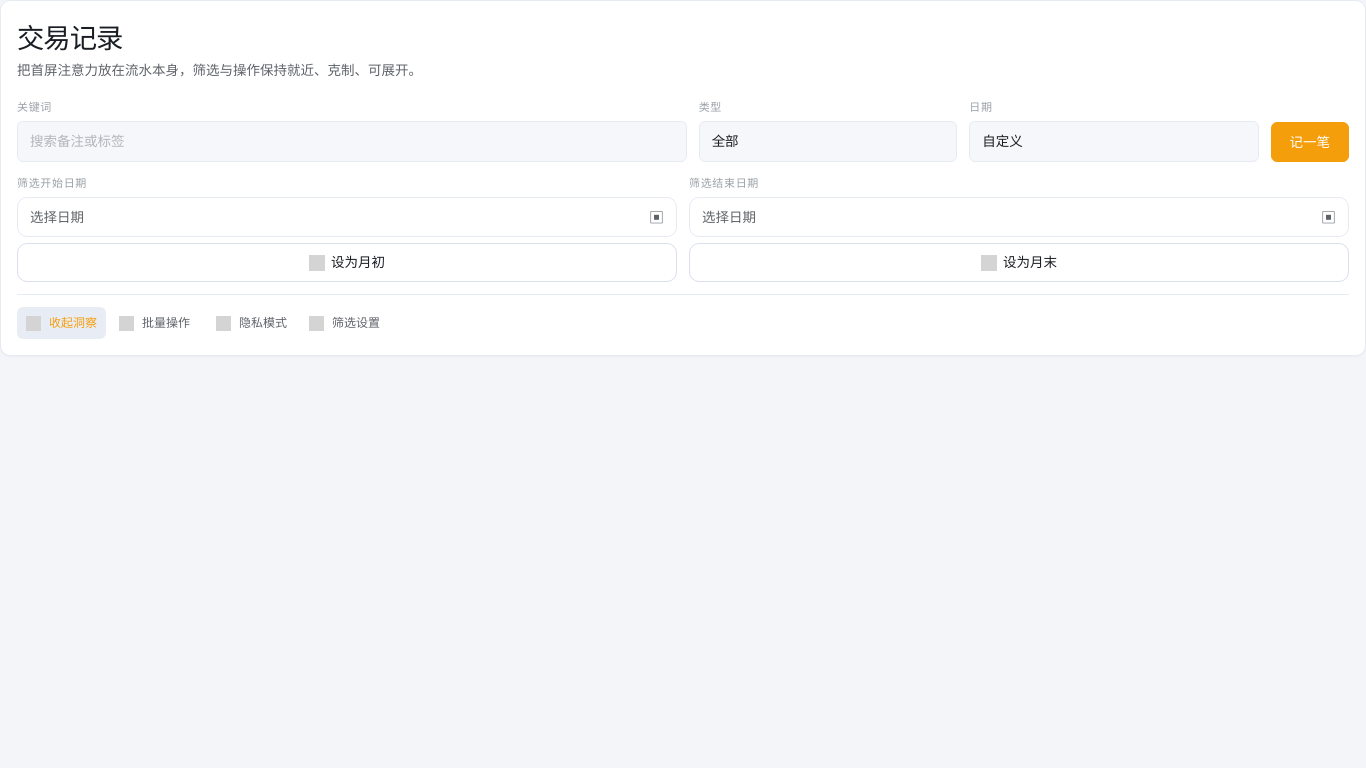
Test case: TransactionFilters › 打开高级筛选对话框后展示分区设置与导入整理操作
Click the button "筛选设置" at (344, 323), box [300,307,389,339]
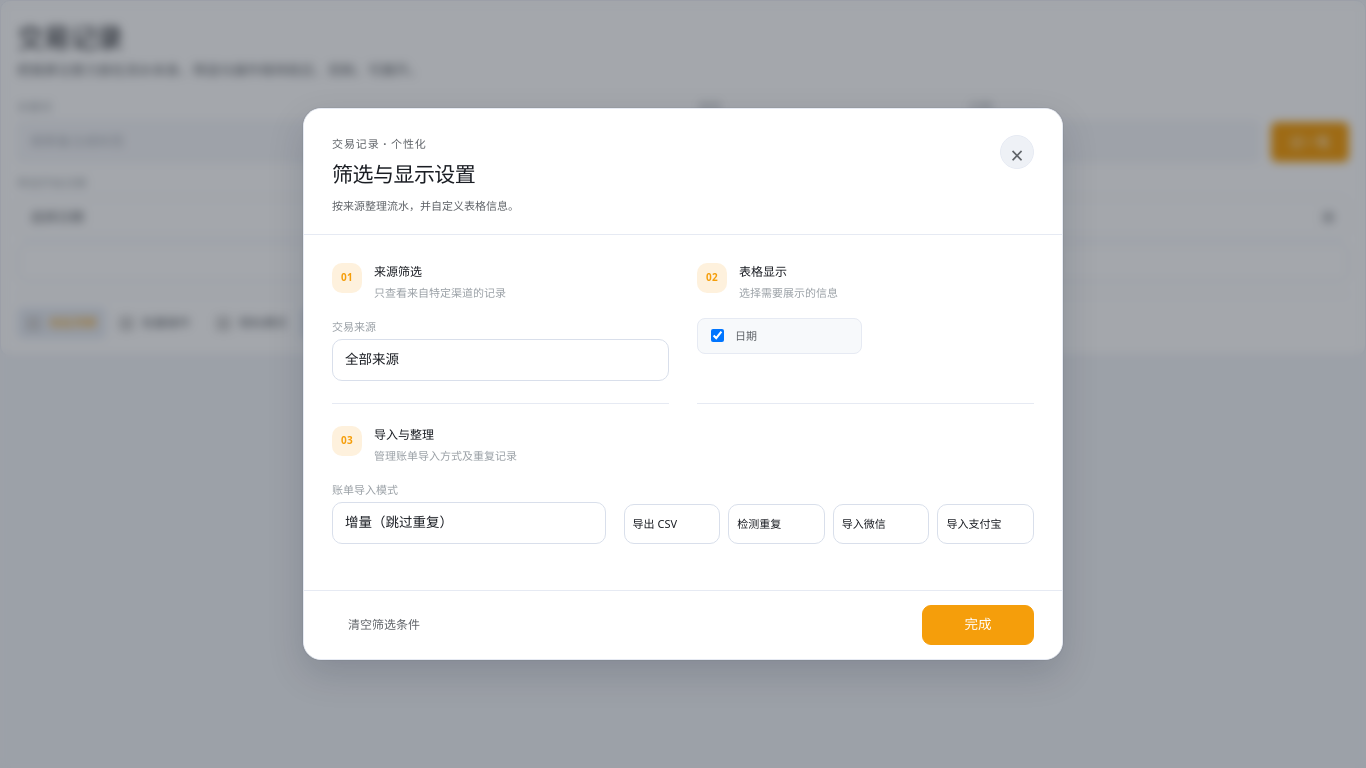
Now the dialog "筛选与显示设置" is shown, box [303,108,1063,660]
Now the heading "来源筛选" is shown, box [374,263,422,280]
Now the heading "表格显示" is shown, box [739,263,787,280]
